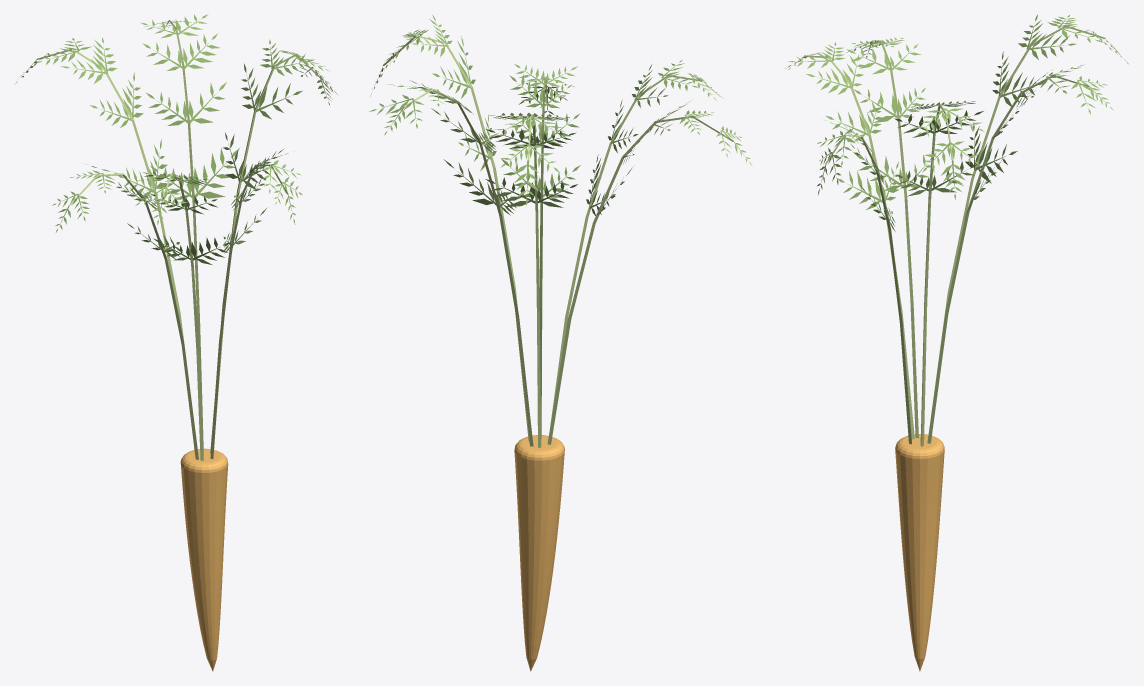
The model's file is carrot_harvest_v05.glb.
The picture shows the model from 3 angles, left to right: view 1: azimuth 30°, elevation 25°; view 2: azimuth 150°, elevation 25°; view 3: azimuth 270°, elevation 25°; orthographic projection. The views are drawn at different scales.
Visible parts, largest first — view 1: plant; view 2: plant; view 3: plant.
Boxes of the visible parts, left/top/right/bottom form: plant: left=16, top=14, right=337, bottom=671; plant: left=369, top=15, right=751, bottom=671; plant: left=786, top=14, right=1128, bottom=671.
Bounding box in the file's own units: 0.2768 × 0.4947 × 0.2537.
Materials: 1 (1 with a texture image).
